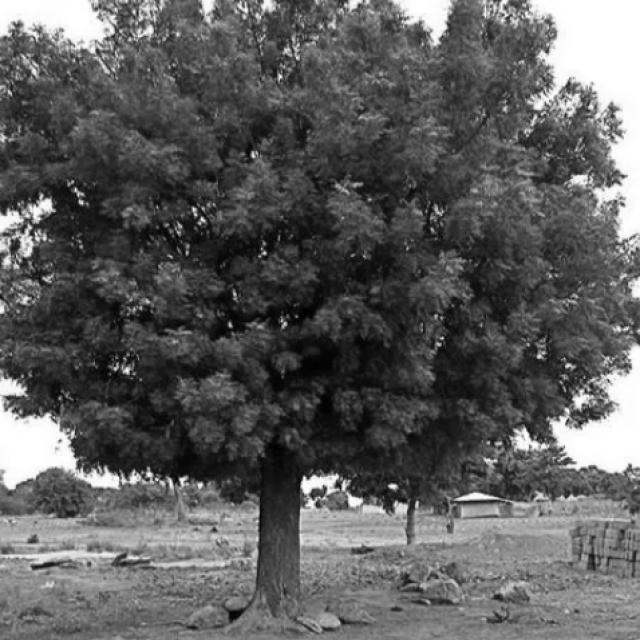Neem-Tree: (29, 24, 586, 624)
